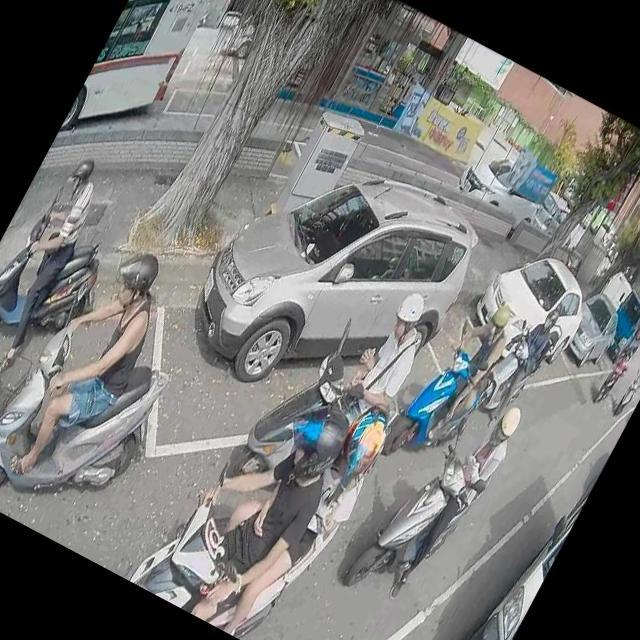person: (183, 367, 403, 640), (144, 371, 362, 640), (0, 225, 189, 505), (379, 383, 528, 612), (0, 145, 122, 372), (321, 280, 442, 446), (411, 282, 527, 449), (478, 300, 568, 429), (597, 346, 635, 398), (628, 360, 640, 392)
